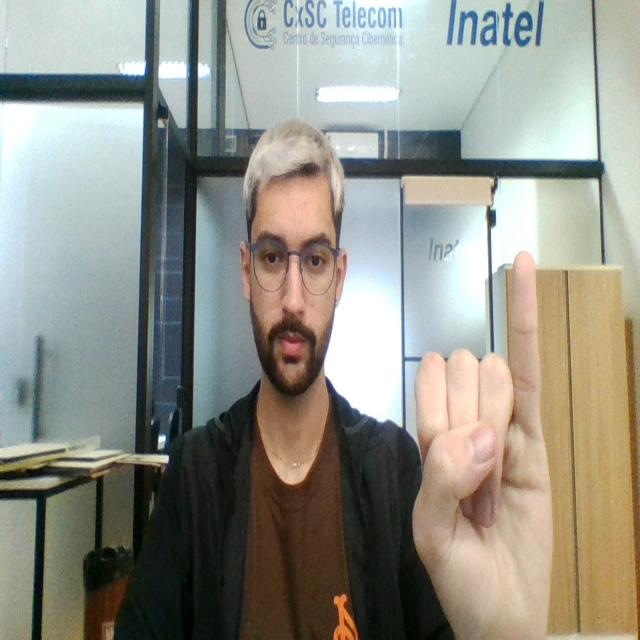I: (407, 243, 557, 630)
